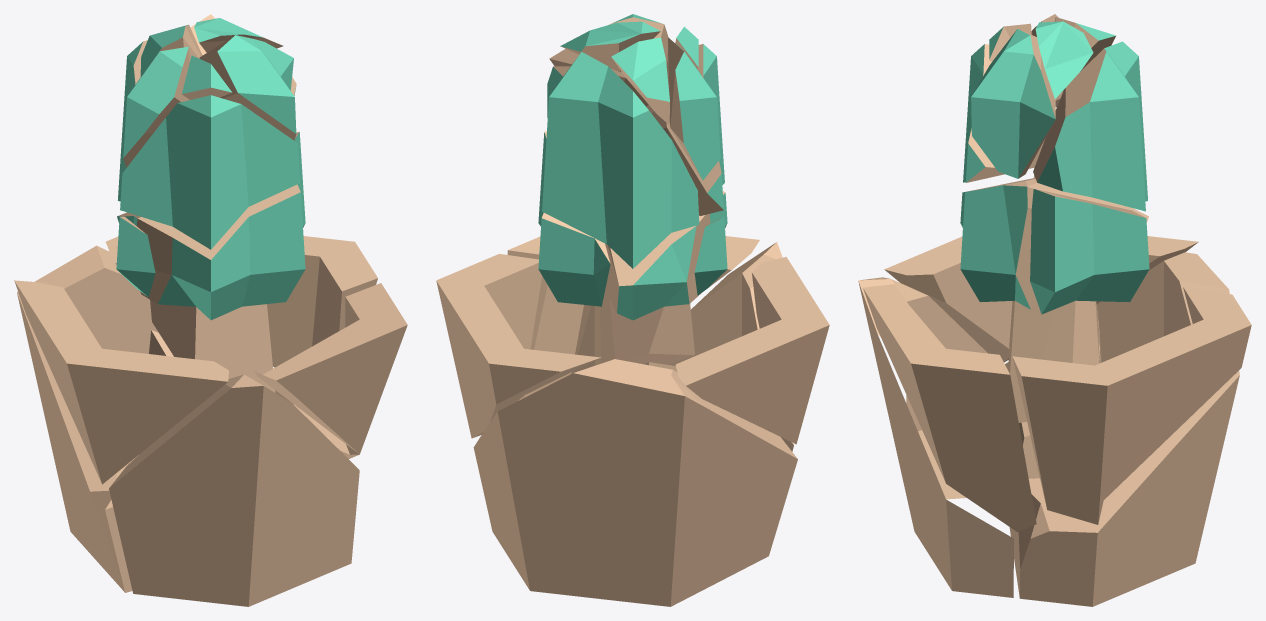
Rendered from plant2_broken.glb.
3 renders of one model, left to right at view 1: azimuth 30°, elevation 25°; view 2: azimuth 150°, elevation 25°; view 3: azimuth 270°, elevation 25°, orthographic.
Visible parts, largest first — view 1: plantSmall2(Clone)_cell.007, plantSmall2(Clone)_cell.008, plantSmall2(Clone)_cell.001, plantSmall2(Clone)_cell.002, plantSmall2(Clone)_cell.010, plantSmall2(Clone)_cell.012, plantSmall2(Clone)_cell.011, plantSmall2(Clone)_cell, plantSmall2(Clone)_cell.005, plantSmall2(Clone)_cell.013, plantSmall2(Clone)_cell.006, plantSmall2(Clone)_cell.003 (+2 smaller); view 2: plantSmall2(Clone)_cell.010, plantSmall2(Clone)_cell.009, plantSmall2(Clone)_cell.002, plantSmall2(Clone)_cell.011, plantSmall2(Clone)_cell.008, plantSmall2(Clone)_cell.015, plantSmall2(Clone)_cell.005, plantSmall2(Clone)_cell.007, plantSmall2(Clone)_cell.012, plantSmall2(Clone)_cell.003, plantSmall2(Clone)_cell.001, plantSmall2(Clone)_cell.004 (+3 smaller); view 3: plantSmall2(Clone)_cell.010, plantSmall2(Clone)_cell.011, plantSmall2(Clone)_cell.012, plantSmall2(Clone)_cell.007, plantSmall2(Clone)_cell.015, plantSmall2(Clone)_cell.009, plantSmall2(Clone)_cell.008, plantSmall2(Clone)_cell, plantSmall2(Clone)_cell.002, plantSmall2(Clone)_cell.004, plantSmall2(Clone)_cell.001, plantSmall2(Clone)_cell.003 (+1 smaller).
Part boxes in pixels (x1=…): plantSmall2(Clone)_cell.007: x1=109, y1=374, x2=359, y2=606; plantSmall2(Clone)_cell.008: x1=117, y1=184, x2=305, y2=392; plantSmall2(Clone)_cell.001: x1=120, y1=95, x2=300, y2=249; plantSmall2(Clone)_cell.002: x1=14, y1=280, x2=228, y2=484; plantSmall2(Clone)_cell.010: x1=17, y1=245, x2=336, y2=592; plantSmall2(Clone)_cell.012: x1=253, y1=283, x2=407, y2=458; plantSmall2(Clone)_cell.011: x1=105, y1=236, x2=377, y2=367; plantSmall2(Clone)_cell: x1=199, y1=35, x2=296, y2=140; plantSmall2(Clone)_cell.005: x1=123, y1=46, x2=189, y2=167; plantSmall2(Clone)_cell.013: x1=116, y1=216, x2=155, y2=297; plantSmall2(Clone)_cell.006: x1=182, y1=55, x2=231, y2=99; plantSmall2(Clone)_cell.003: x1=140, y1=24, x2=202, y2=77; plantSmall2(Clone)_cell.010: x1=473, y1=359, x2=797, y2=606; plantSmall2(Clone)_cell.009: x1=542, y1=52, x2=699, y2=268; plantSmall2(Clone)_cell.002: x1=675, y1=257, x2=829, y2=444; plantSmall2(Clone)_cell.011: x1=436, y1=254, x2=600, y2=438; plantSmall2(Clone)_cell.008: x1=599, y1=191, x2=727, y2=364; plantSmall2(Clone)_cell.015: x1=538, y1=131, x2=610, y2=373; plantSmall2(Clone)_cell.005: x1=667, y1=37, x2=720, y2=180; plantSmall2(Clone)_cell.007: x1=667, y1=242, x2=793, y2=451; plantSmall2(Clone)_cell.012: x1=507, y1=236, x2=759, y2=398; plantSmall2(Clone)_cell.003: x1=611, y1=37, x2=669, y2=124; plantSmall2(Clone)_cell.001: x1=646, y1=44, x2=724, y2=215; plantSmall2(Clone)_cell.004: x1=560, y1=21, x2=660, y2=71; plantSmall2(Clone)_cell.010: x1=1005, y1=252, x2=1239, y2=606; plantSmall2(Clone)_cell.011: x1=1012, y1=287, x2=1251, y2=524; plantSmall2(Clone)_cell.012: x1=863, y1=284, x2=1036, y2=531; plantSmall2(Clone)_cell.007: x1=858, y1=277, x2=1013, y2=597; plantSmall2(Clone)_cell.015: x1=1030, y1=189, x2=1149, y2=365; plantSmall2(Clone)_cell.009: x1=1033, y1=41, x2=1147, y2=211; plantSmall2(Clone)_cell.008: x1=960, y1=178, x2=1148, y2=422; plantSmall2(Clone)_cell: x1=971, y1=29, x2=1055, y2=178; plantSmall2(Clone)_cell.002: x1=884, y1=236, x2=1198, y2=362; plantSmall2(Clone)_cell.004: x1=1035, y1=21, x2=1093, y2=98; plantSmall2(Clone)_cell.001: x1=963, y1=44, x2=1044, y2=182; plantSmall2(Clone)_cell.003: x1=1054, y1=17, x2=1115, y2=91.
Bounding box in the file's own units: 0.0947 × 0.138 × 0.0947.
